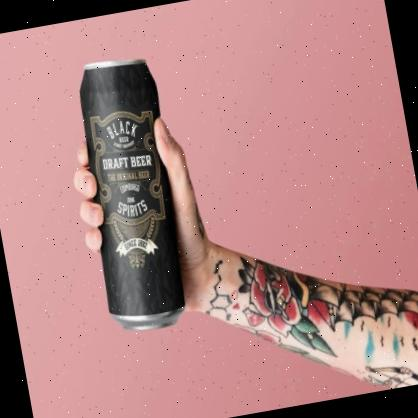can: (63, 45, 201, 342)
